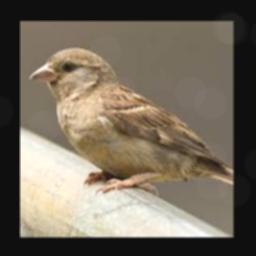Sparrow: (29, 46, 233, 194)
